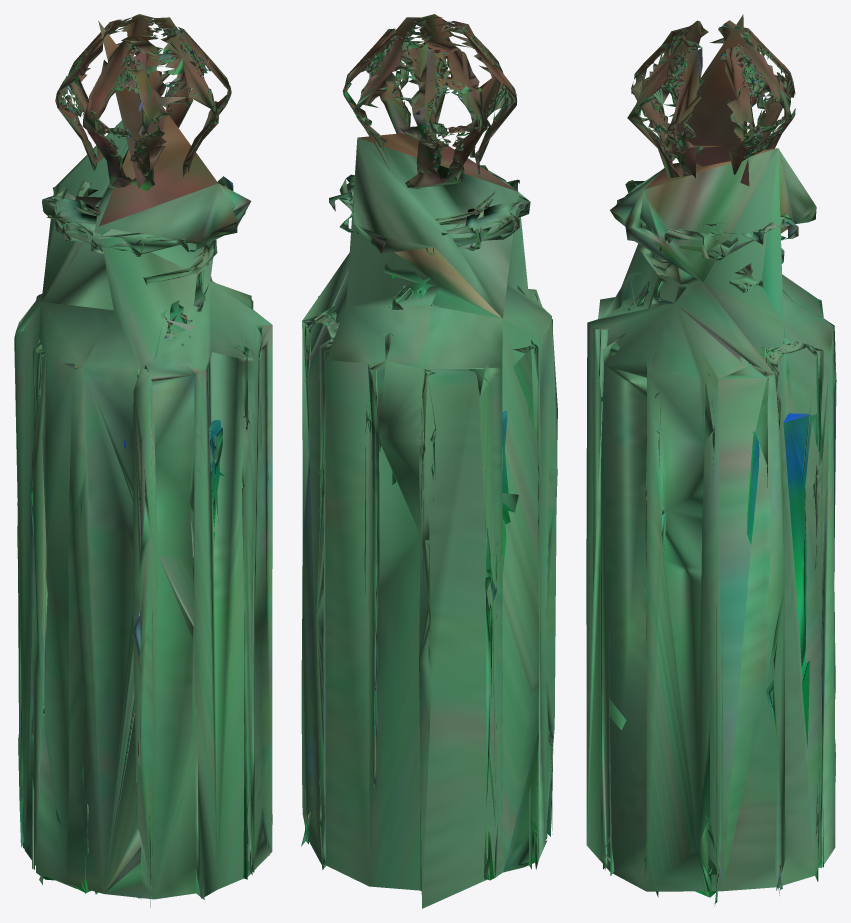
Rendered from elixir_vigor.glb.
3 views of the same model, side by side, from view 1: azimuth 30°, elevation 25°; view 2: azimuth 150°, elevation 25°; view 3: azimuth 270°, elevation 25° (orthographic).
Parts seen in each view (by area): view 1: geometry_0; view 2: geometry_0; view 3: geometry_0.
Boxes of the visible parts, bbox=[...] form: geometry_0: bbox=[14, 14, 272, 907]; geometry_0: bbox=[301, 14, 557, 908]; geometry_0: bbox=[586, 14, 836, 906].
Size of the model in its own units: 0.277 by 1 by 0.2728.
Materials: 1 (1 with a texture image).
